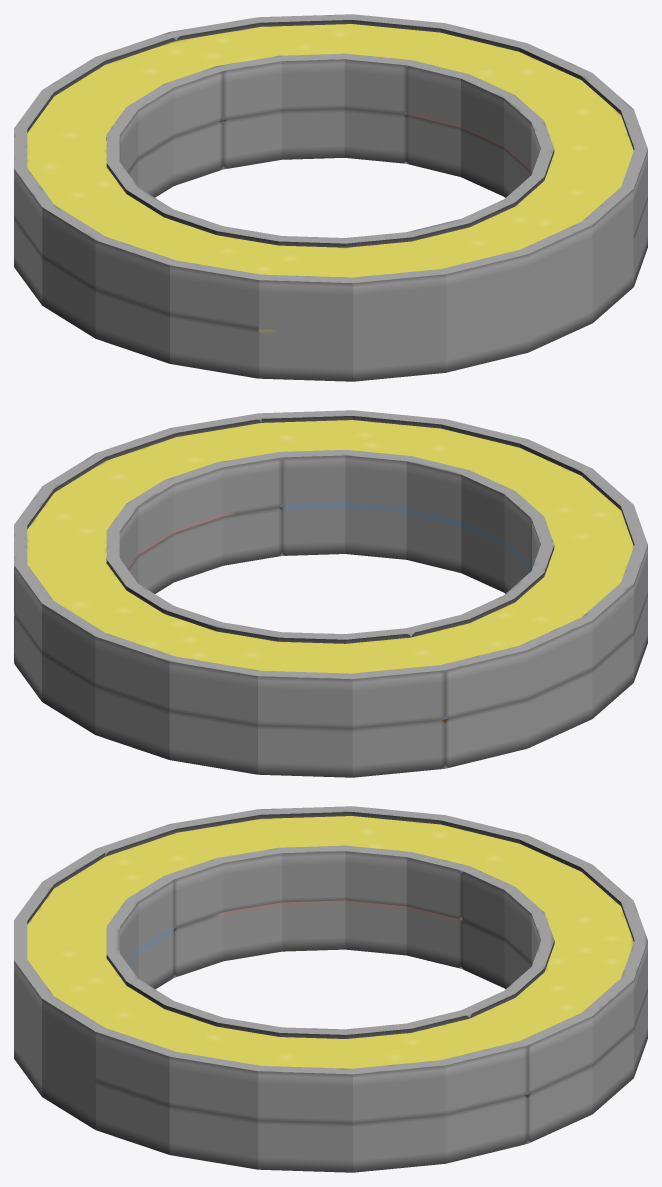
The model's file is tempRing.obj.
3 renders of one model, top to bottom at view 1: azimuth 30°, elevation 25°; view 2: azimuth 150°, elevation 25°; view 3: azimuth 270°, elevation 25°, orthographic.
Visible parts, largest first — view 1: cylinder; view 2: cylinder; view 3: cylinder.
Part boxes in pixels (x1,y1,x2,y2): cylinder: (14, 14, 647, 381); cylinder: (14, 410, 647, 777); cylinder: (14, 806, 647, 1172).
Bounding box in the file's own units: 4.38 × 0.75 × 4.38.
1 material, 1 textured.
